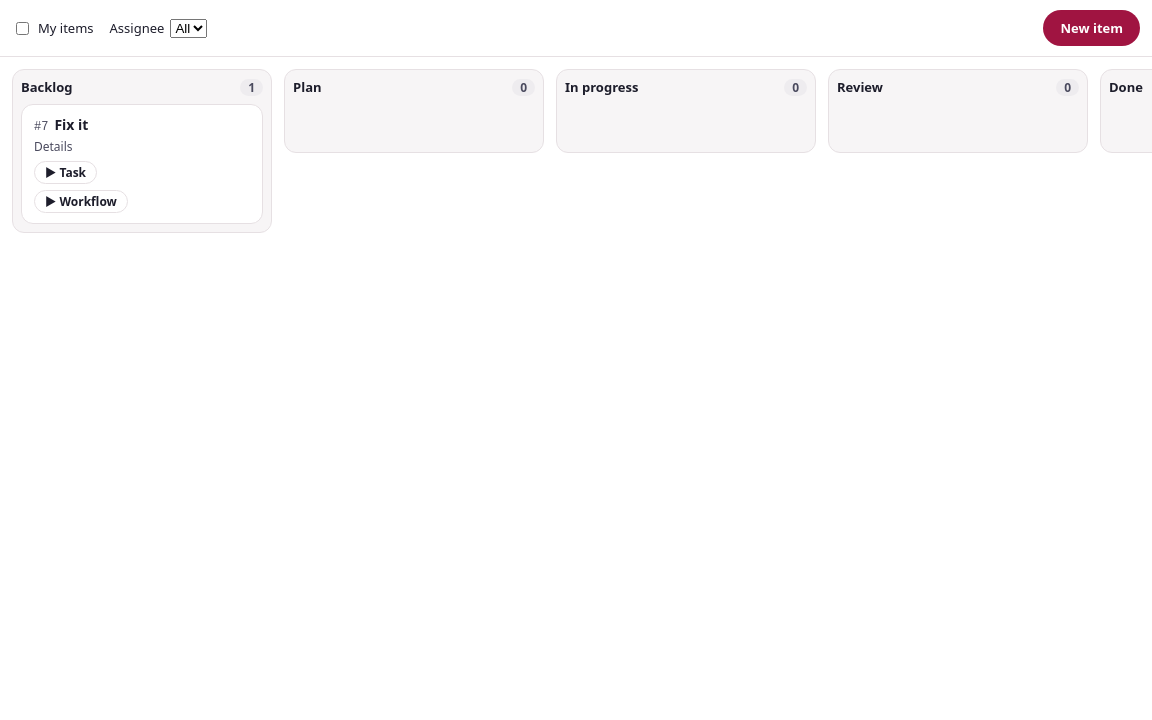
Test: start a workflow from a card › picks a definition, confirms, then starts
The image size is (1152, 720).
Click the button with aria-label "Start workflow on #7" at [81, 202], box [34, 190, 128, 213]
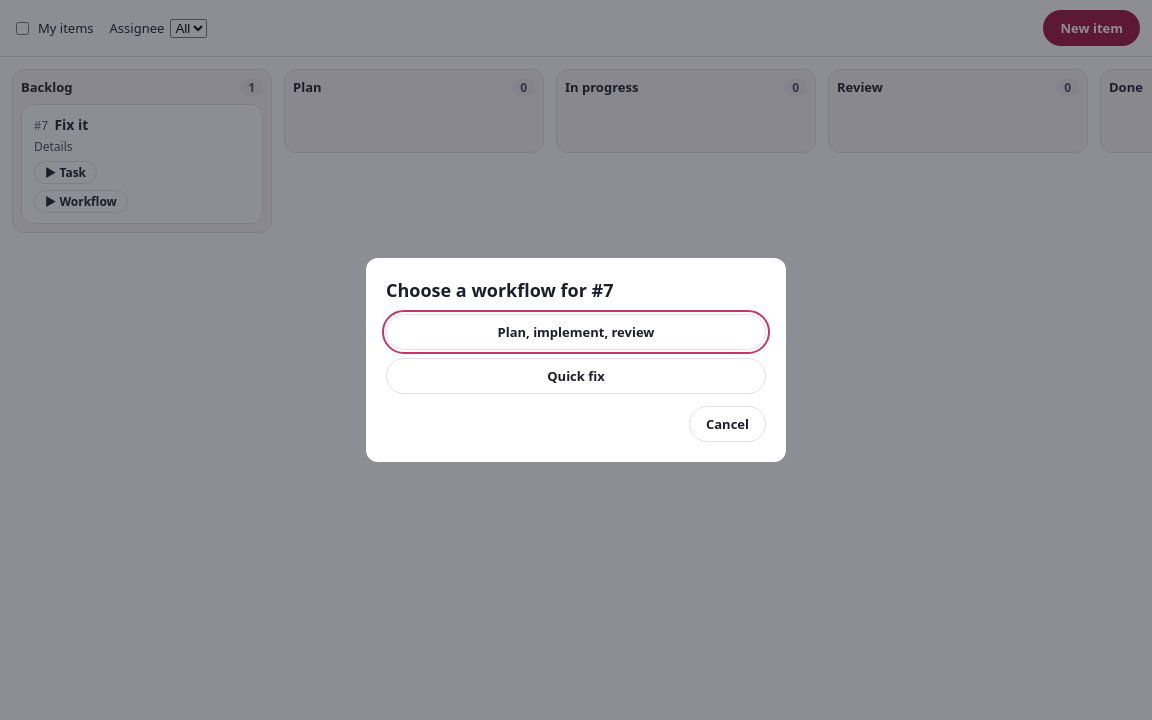
Click the button "Quick fix" at [576, 376], box [386, 358, 766, 394]
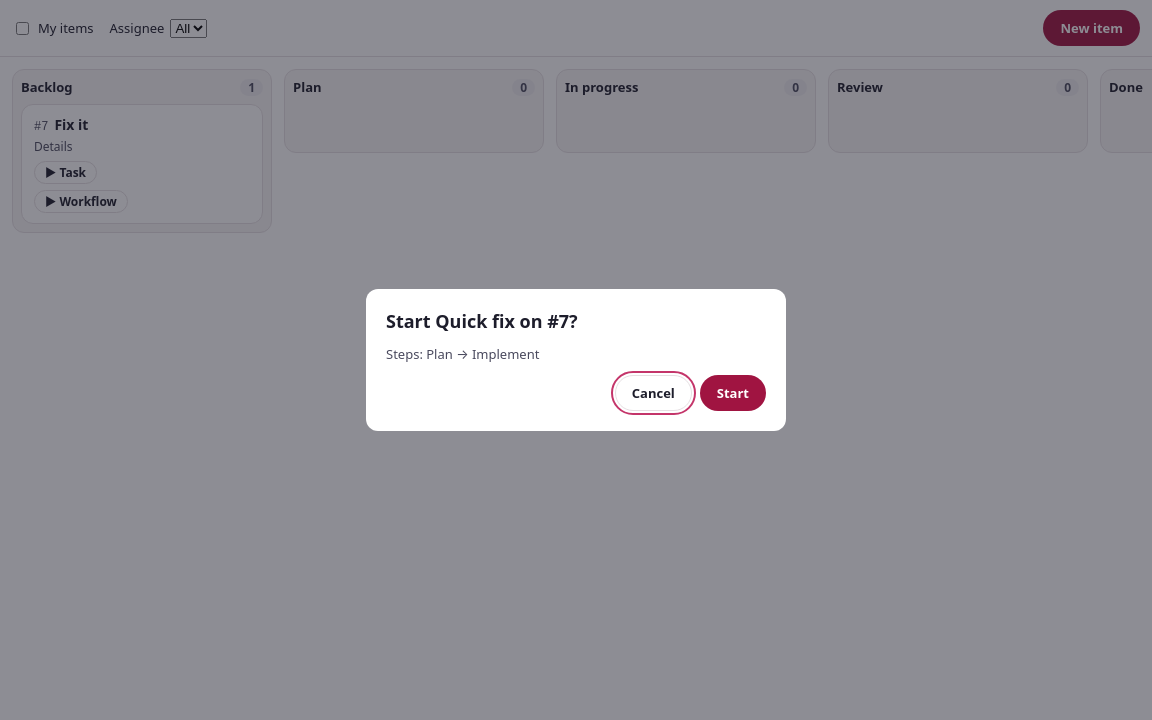
Click the button "Start" at [733, 393], box [700, 375, 766, 411]
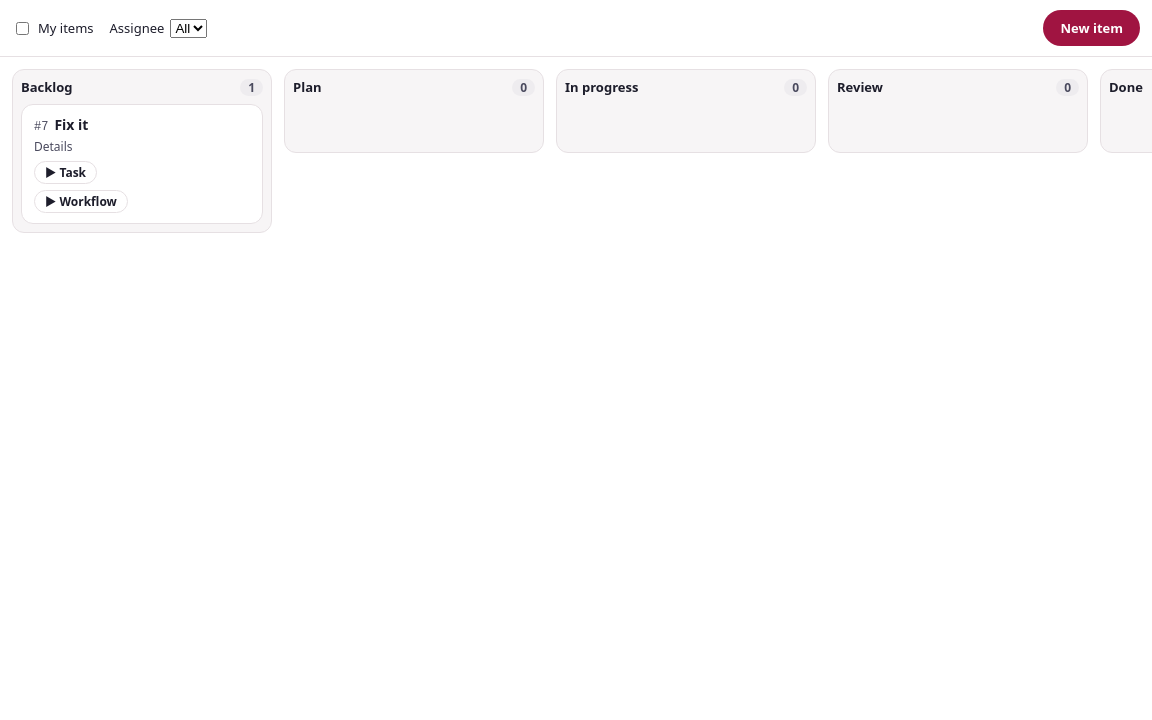
Expected: the dialog is gone
